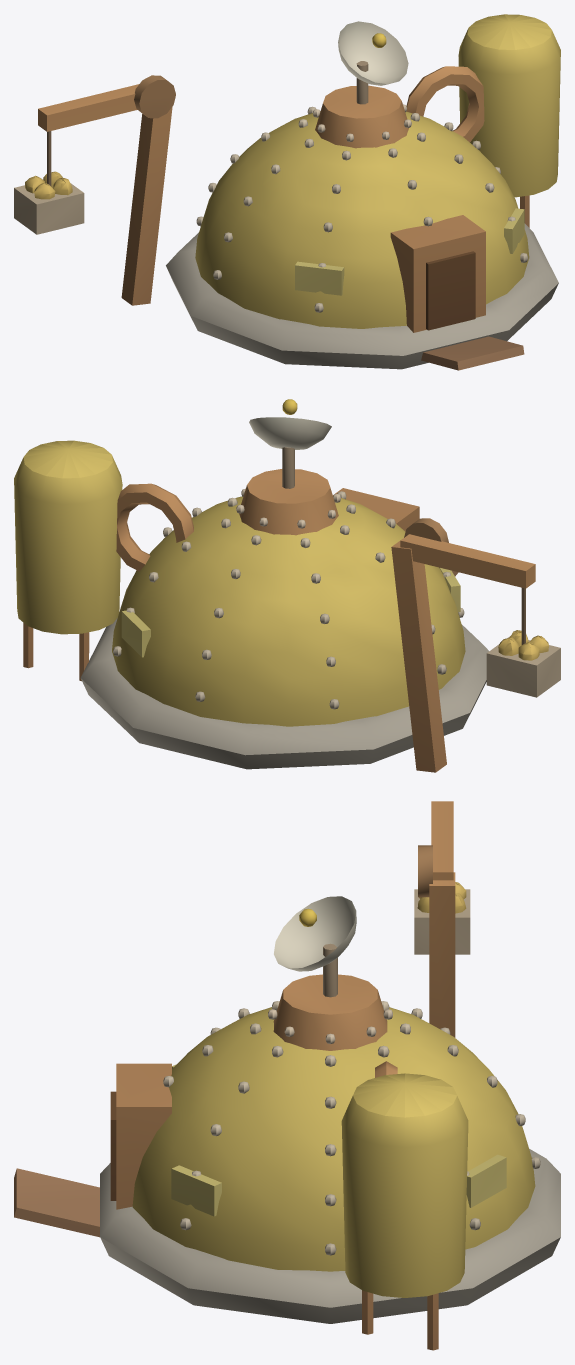
File: cen_valak_domo_1.glb
The picture shows the model from 3 angles, top to bottom: view 1: azimuth 30°, elevation 25°; view 2: azimuth 150°, elevation 25°; view 3: azimuth 270°, elevation 25°; orthographic projection. The views are drawn at different scales.
Parts seen in each view (by area): view 1: domo; view 2: domo; view 3: domo.
Part boxes in pixels (x1,y1,x2,y2): domo: [14, 14, 560, 370]; domo: [14, 399, 560, 772]; domo: [14, 801, 560, 1350].
Size of the model in its own units: 3.9 by 1.9 by 2.93.
